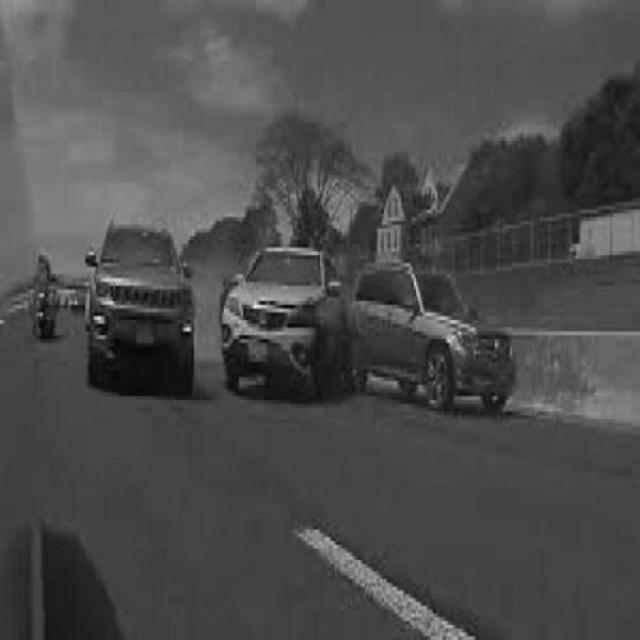accident: (220, 248, 514, 415)
vehicle: (92, 217, 192, 387), (26, 256, 67, 347)
